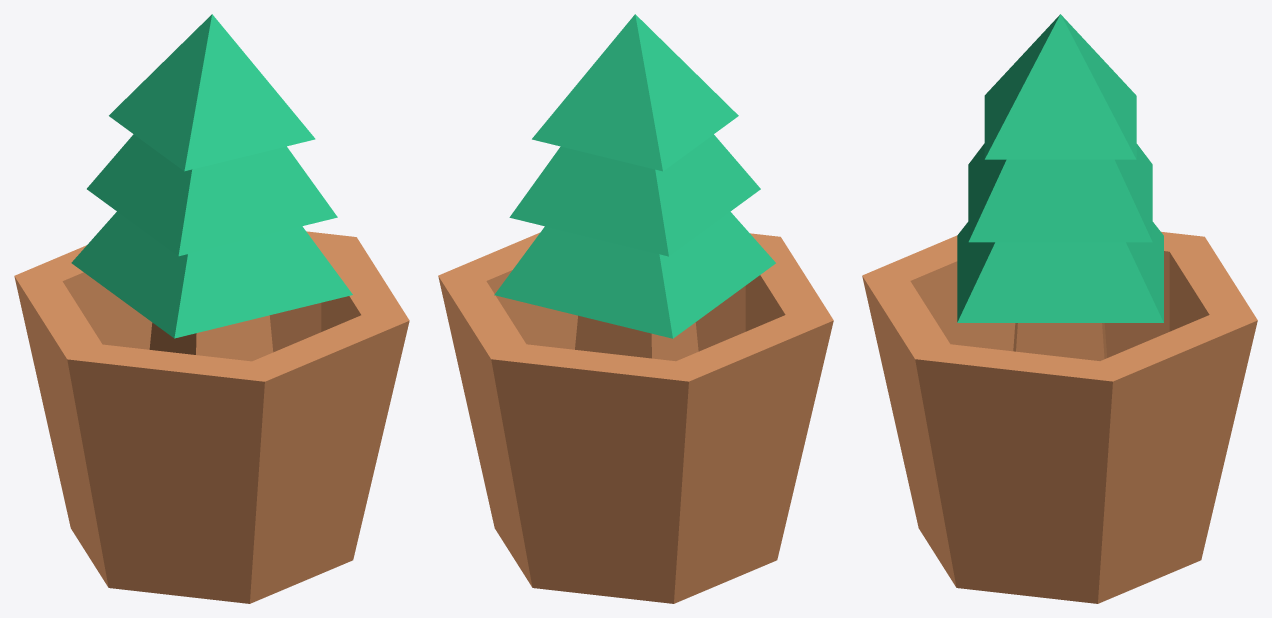
The model's file is plantSmall1.glb.
3 renders of one model, left to right at view 1: azimuth 30°, elevation 25°; view 2: azimuth 150°, elevation 25°; view 3: azimuth 270°, elevation 25°, orthographic.
Parts seen in each view (by area): view 1: plantSmall1; view 2: plantSmall1; view 3: plantSmall1.
Part boxes in pixels (box(x1,y1,x2,y2)): plantSmall1: box(14, 14, 409, 603); plantSmall1: box(438, 14, 833, 603); plantSmall1: box(862, 14, 1257, 603).
Size of the model in its own units: 0.1893 by 0.28 by 0.1893.
